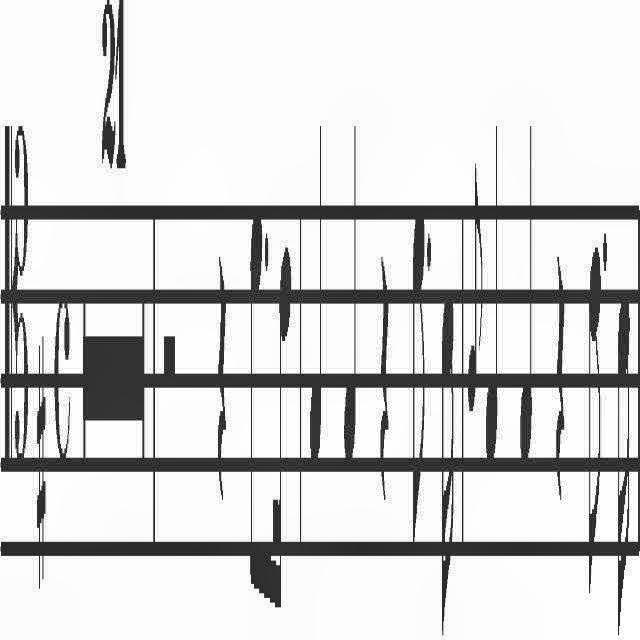Diez: (36, 277, 49, 603)
Eighth-note: (583, 220, 601, 622), (410, 194, 426, 618), (249, 193, 263, 614)
Quarter-note: (515, 86, 537, 520), (340, 112, 360, 494), (306, 112, 326, 492), (484, 98, 500, 494)
Quarter-rest: (552, 218, 568, 536), (214, 246, 230, 534), (376, 236, 392, 516)
Sixteenth-note: (272, 236, 292, 604), (615, 252, 633, 640), (440, 275, 455, 640)
